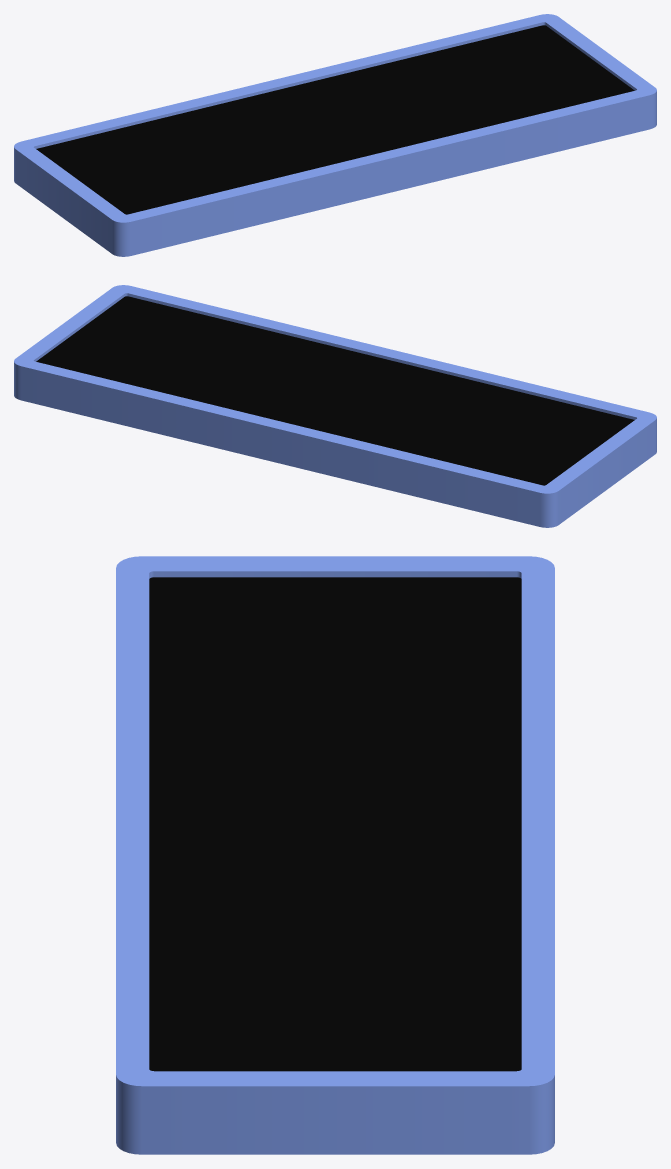
File: keyboardCase.glb
3 renders of one model, top to bottom at view 1: azimuth 30°, elevation 25°; view 2: azimuth 150°, elevation 25°; view 3: azimuth 270°, elevation 25°, orthographic. The views are drawn at different scales.
Visible parts, largest first — view 1: Case_Plate, Case; view 2: Case_Plate, Case; view 3: Case_Plate, Case.
Boxes of the visible parts, bbox=[...] form: Case_Plate: bbox=[36, 25, 634, 214]; Case: bbox=[14, 14, 656, 256]; Case_Plate: bbox=[36, 296, 634, 485]; Case: bbox=[14, 285, 656, 527]; Case_Plate: bbox=[149, 577, 521, 1071]; Case: bbox=[116, 556, 554, 1154].
Size of the model in its own units: 0.3175 by 0.0191 by 0.1111.
